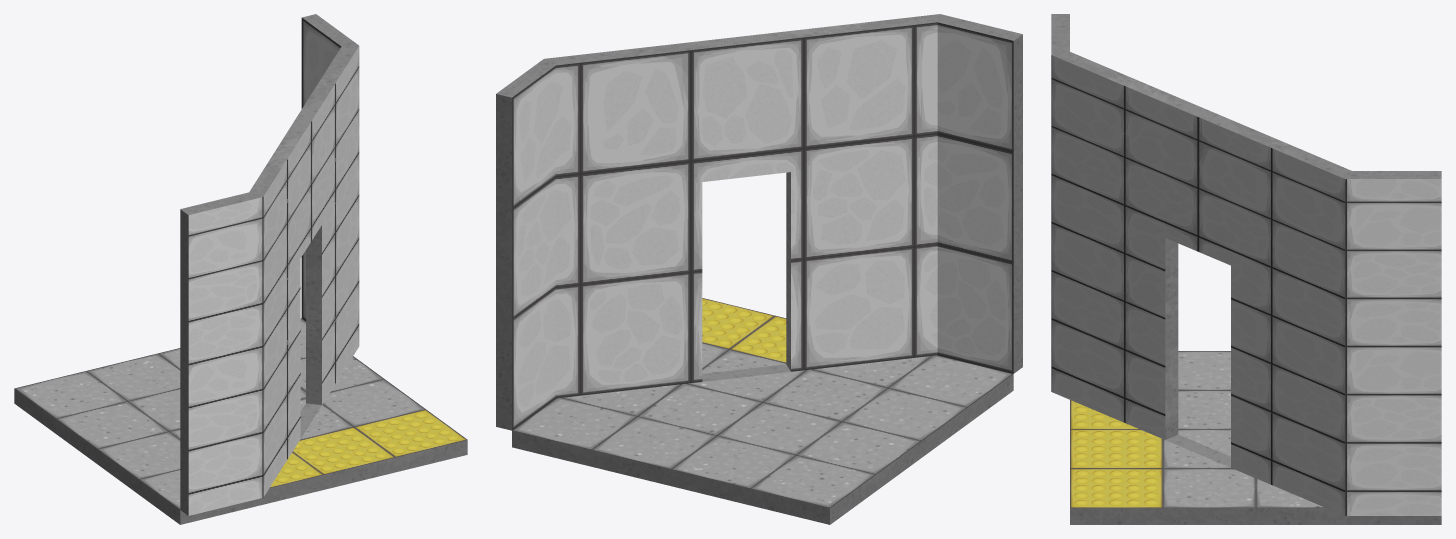
File: SM_Wall_Corner_Door_A.fbx
The picture shows the model from 3 angles, left to right: view 1: azimuth 30°, elevation 25°; view 2: azimuth 150°, elevation 25°; view 3: azimuth 270°, elevation 25°; orthographic projection. The views are drawn at different scales.
Visible parts, largest first — view 1: SM_Wall_Corner_Door_A; view 2: SM_Wall_Corner_Door_A; view 3: SM_Wall_Corner_Door_A.
Part boxes in pixels (box(x1,y1,x2,y2)): SM_Wall_Corner_Door_A: box(14, 14, 467, 524); SM_Wall_Corner_Door_A: box(496, 14, 1022, 524); SM_Wall_Corner_Door_A: box(1051, 14, 1441, 524).
Size of the model in its own units: 420 by 420 by 420.
